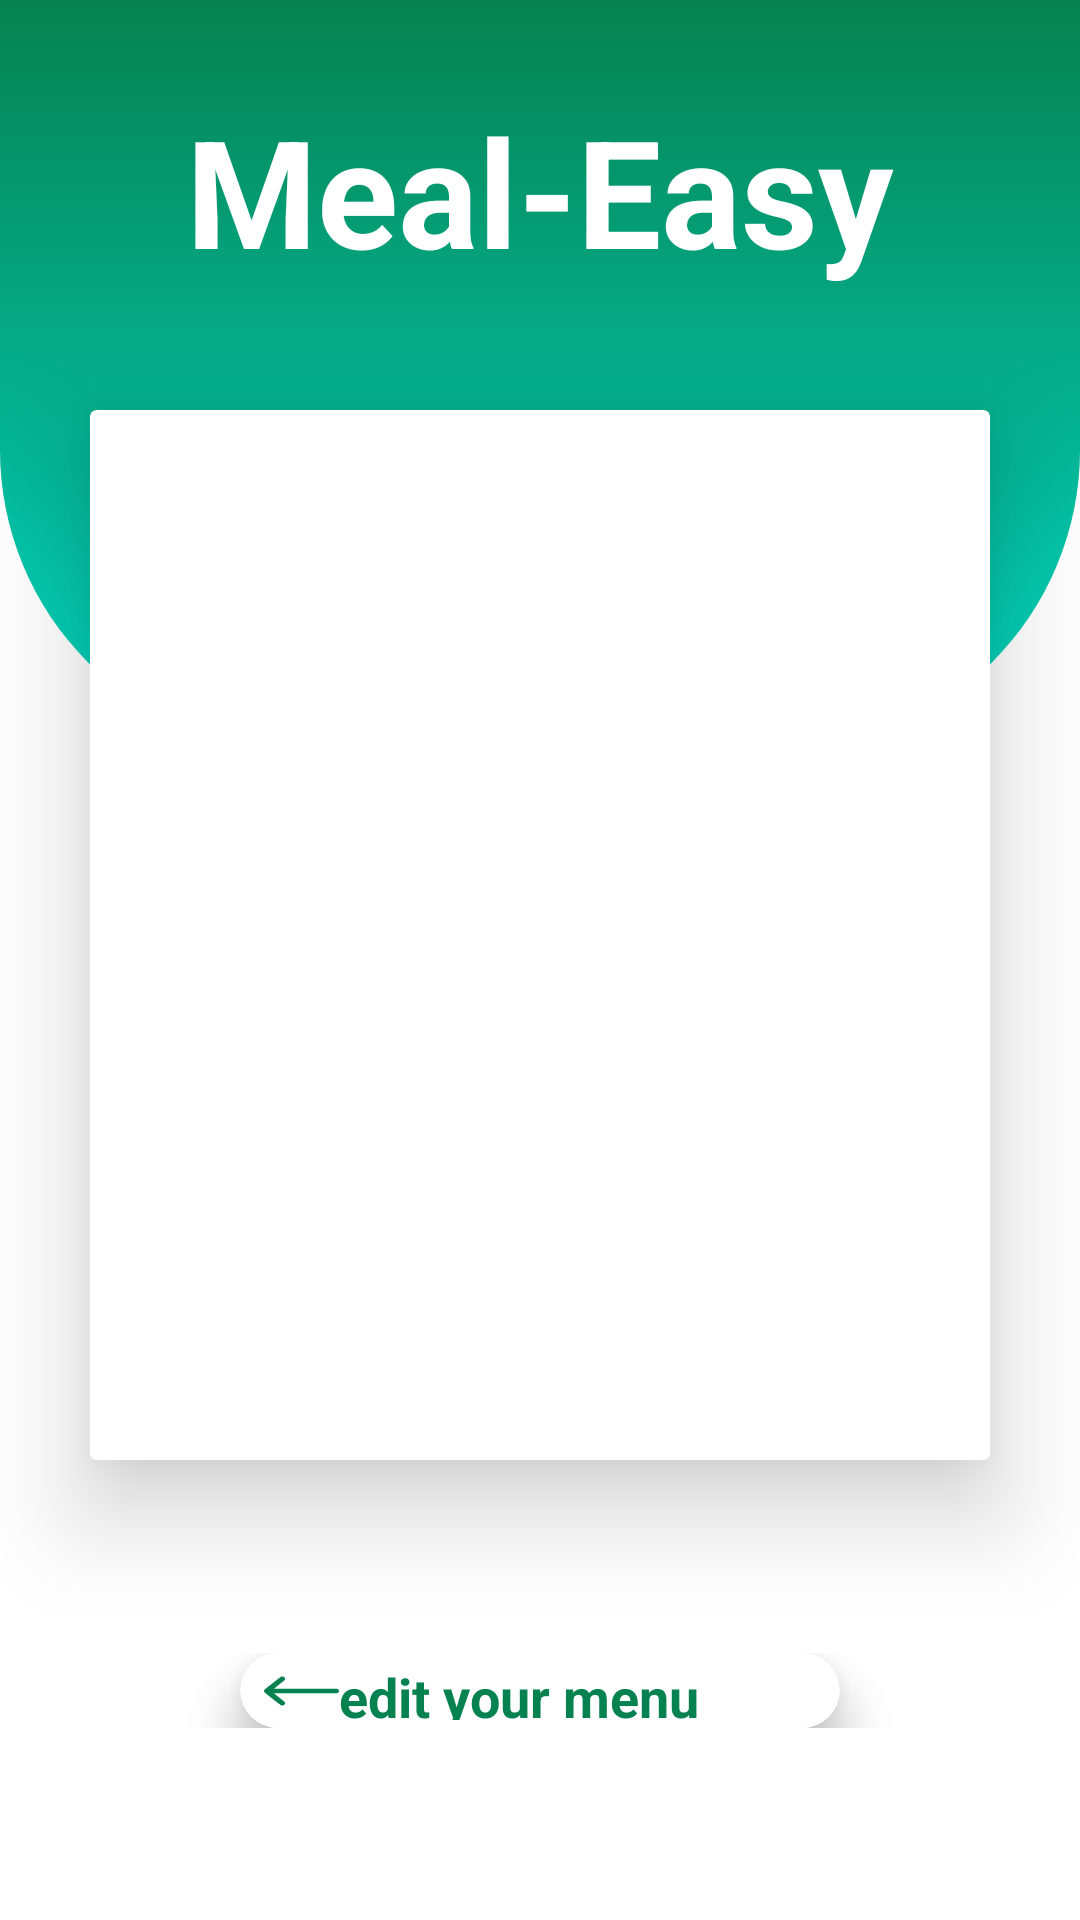

Icon bounding boxes for this 1080 × 1920 phone screenshot, format Rect(x1, y1, x2, y2):
back arrow: Rect(264, 1676, 339, 1706)
